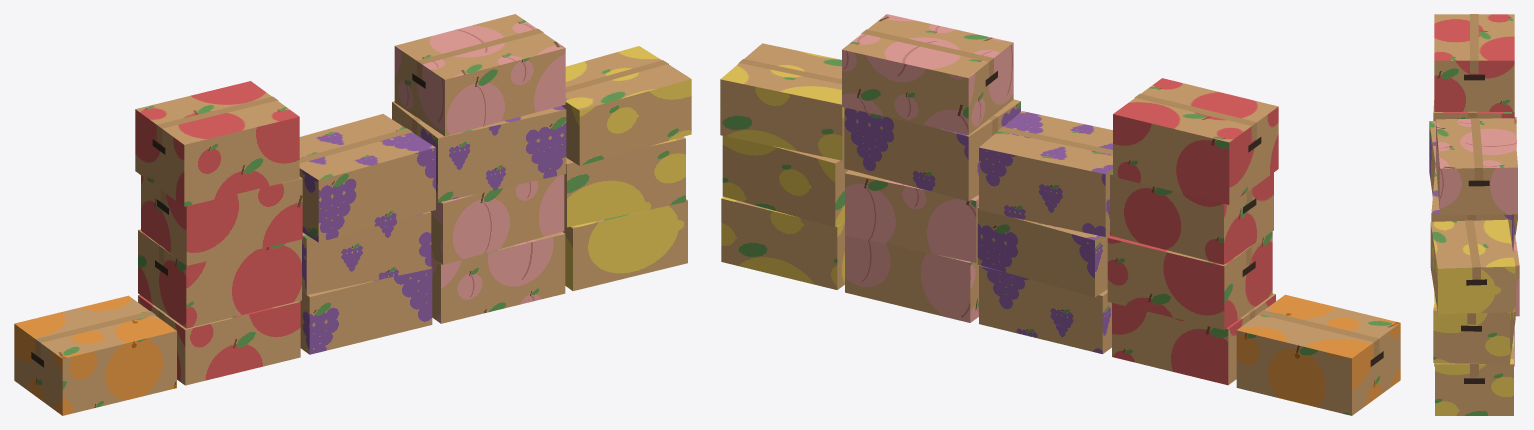
File: Prop_FruitBoxWall_N.fbx
The picture shows the model from 3 angles, left to right: view 1: azimuth 30°, elevation 25°; view 2: azimuth 150°, elevation 25°; view 3: azimuth 270°, elevation 25°; orthographic projection. The views are drawn at different scales.
Visible parts, largest first — view 1: Prop_FruitBoxWall_N; view 2: Prop_FruitBoxWall_N; view 3: Prop_FruitBoxWall_N.
Part boxes in pixels (left/top/right/bottom): Prop_FruitBoxWall_N: left=14, top=14, right=691, bottom=415; Prop_FruitBoxWall_N: left=720, top=14, right=1400, bottom=415; Prop_FruitBoxWall_N: left=1429, top=14, right=1519, bottom=415.
Size of the model in its own units: 6.85 by 2.51 by 1.03.
